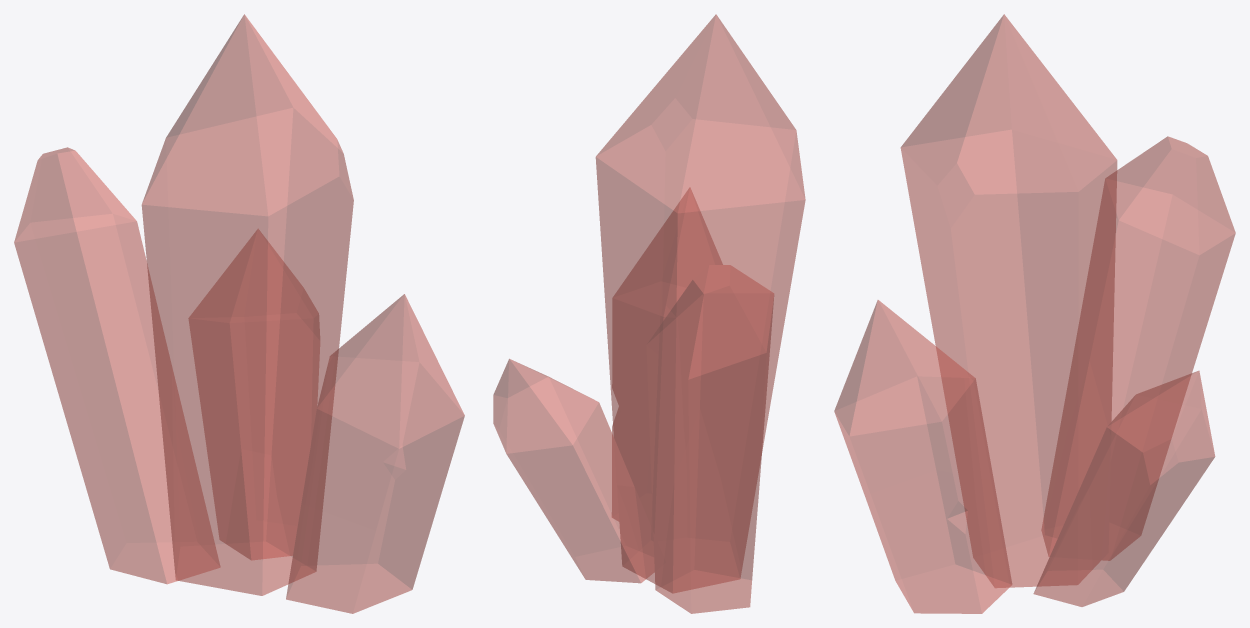
The model's file is Crystals_Bogdan.fbx.
3 renders of one model, left to right at view 1: azimuth 30°, elevation 25°; view 2: azimuth 150°, elevation 25°; view 3: azimuth 270°, elevation 25°, orthographic. The views are drawn at different scales.
Parts seen in each view (by area): view 1: Crystals; view 2: Crystals; view 3: Crystals.
Boxes of the visible parts, x1=… form: Crystals: x1=14, y1=14, x2=464, y2=613; Crystals: x1=493, y1=14, x2=805, y2=613; Crystals: x1=834, y1=14, x2=1235, y2=613.
Bounding box in the file's own units: 58.24 × 108 × 72.25.
